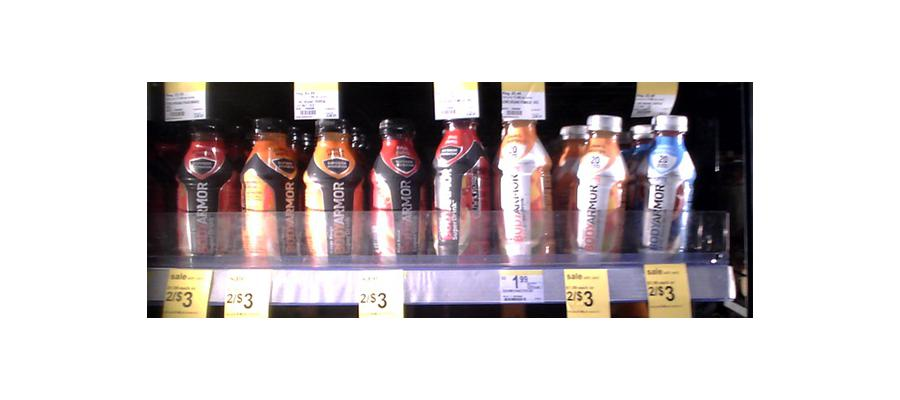bottle: (557, 109, 631, 259), (432, 100, 492, 263), (238, 114, 300, 263), (304, 104, 362, 260), (635, 116, 694, 263), (498, 111, 553, 264), (370, 114, 426, 260), (176, 118, 233, 257)
